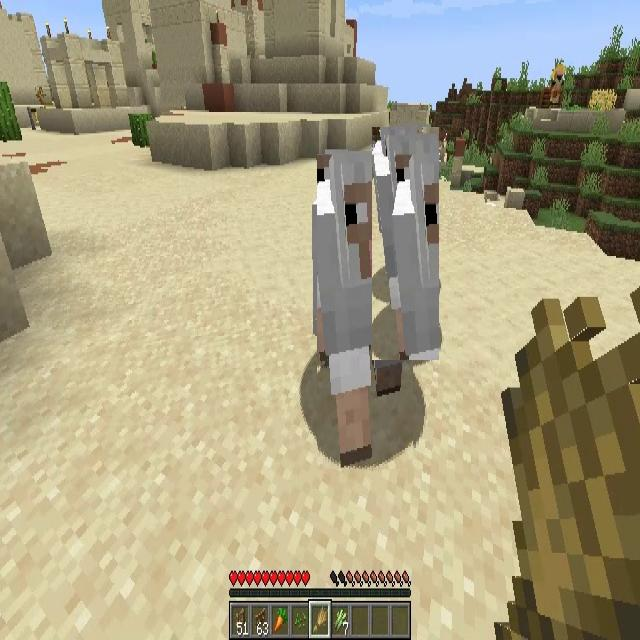sheep: (317, 154, 413, 469), (372, 127, 439, 360)
